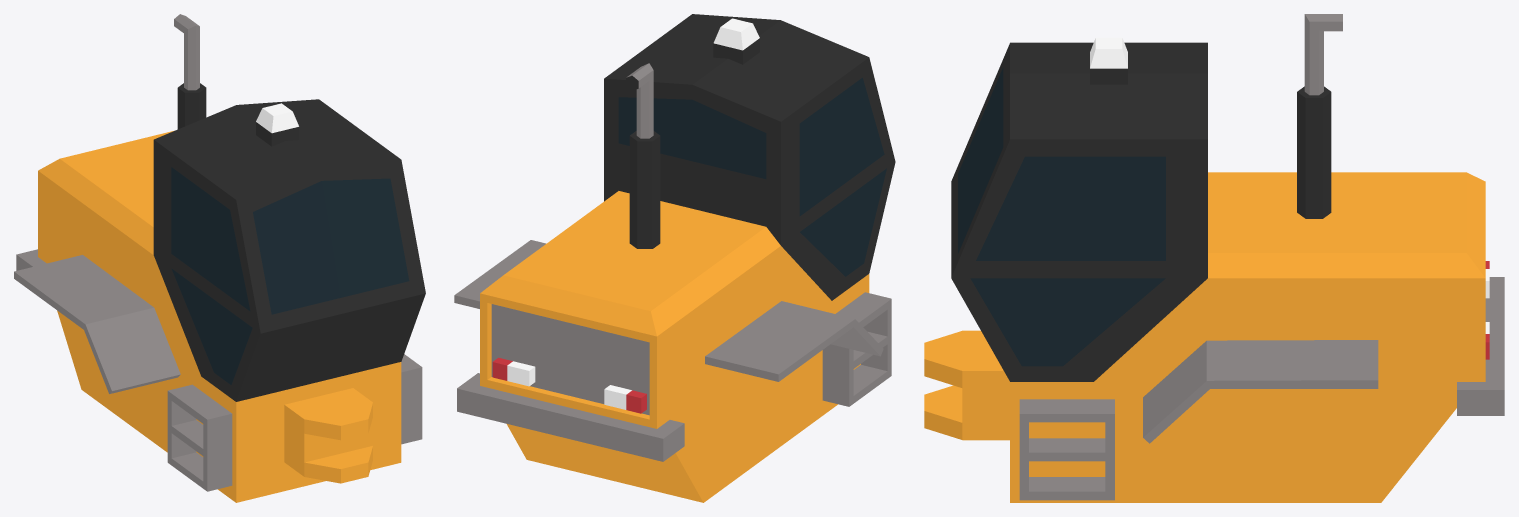
File: road-roller-base.glb
The picture shows the model from 3 angles, left to right: view 1: azimuth 30°, elevation 25°; view 2: azimuth 150°, elevation 25°; view 3: azimuth 270°, elevation 25°; orthographic projection. The views are drawn at different scales.
Visible parts, largest first — view 1: road-roller-base; view 2: road-roller-base; view 3: road-roller-base.
Boxes of the visible parts, x1,y1,x2,y2 form: road-roller-base: [14, 14, 425, 502]; road-roller-base: [454, 14, 895, 502]; road-roller-base: [924, 14, 1504, 502].
Bounding box in the file's own units: 2.2 × 2.55 × 3.04.
Materials: 1 (1 with a texture image).
